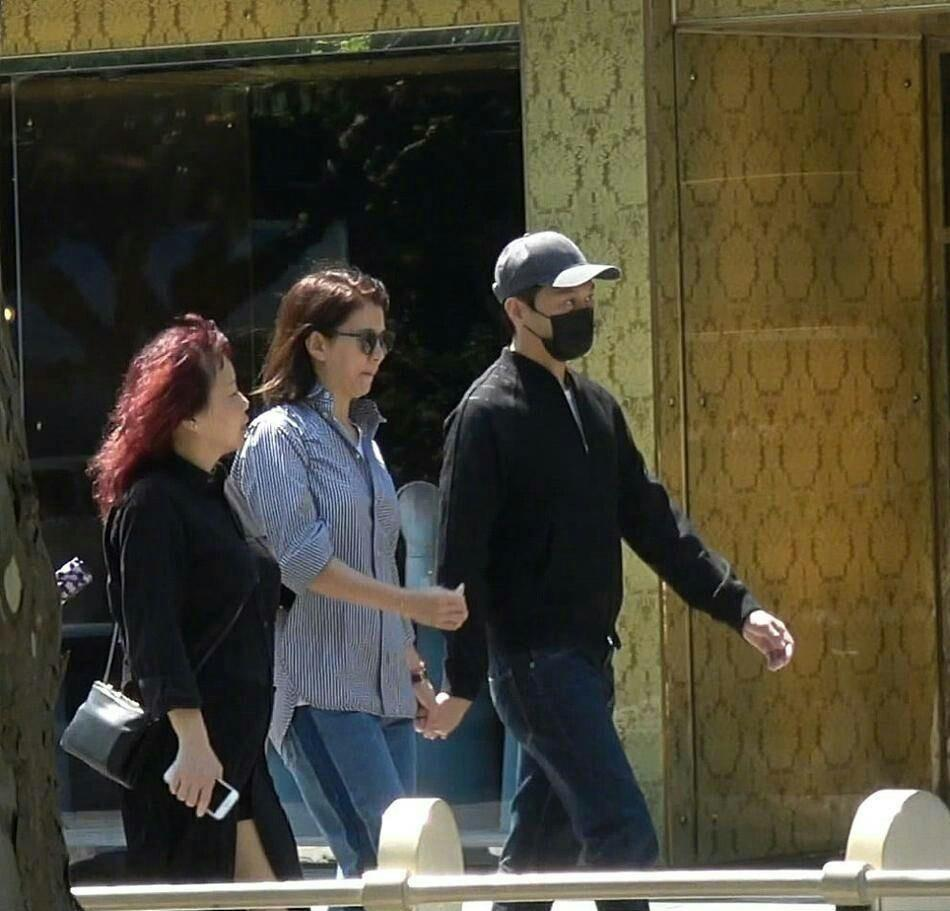NONE: (327, 307, 393, 396), (188, 366, 254, 451)
OK: (521, 275, 609, 363)
